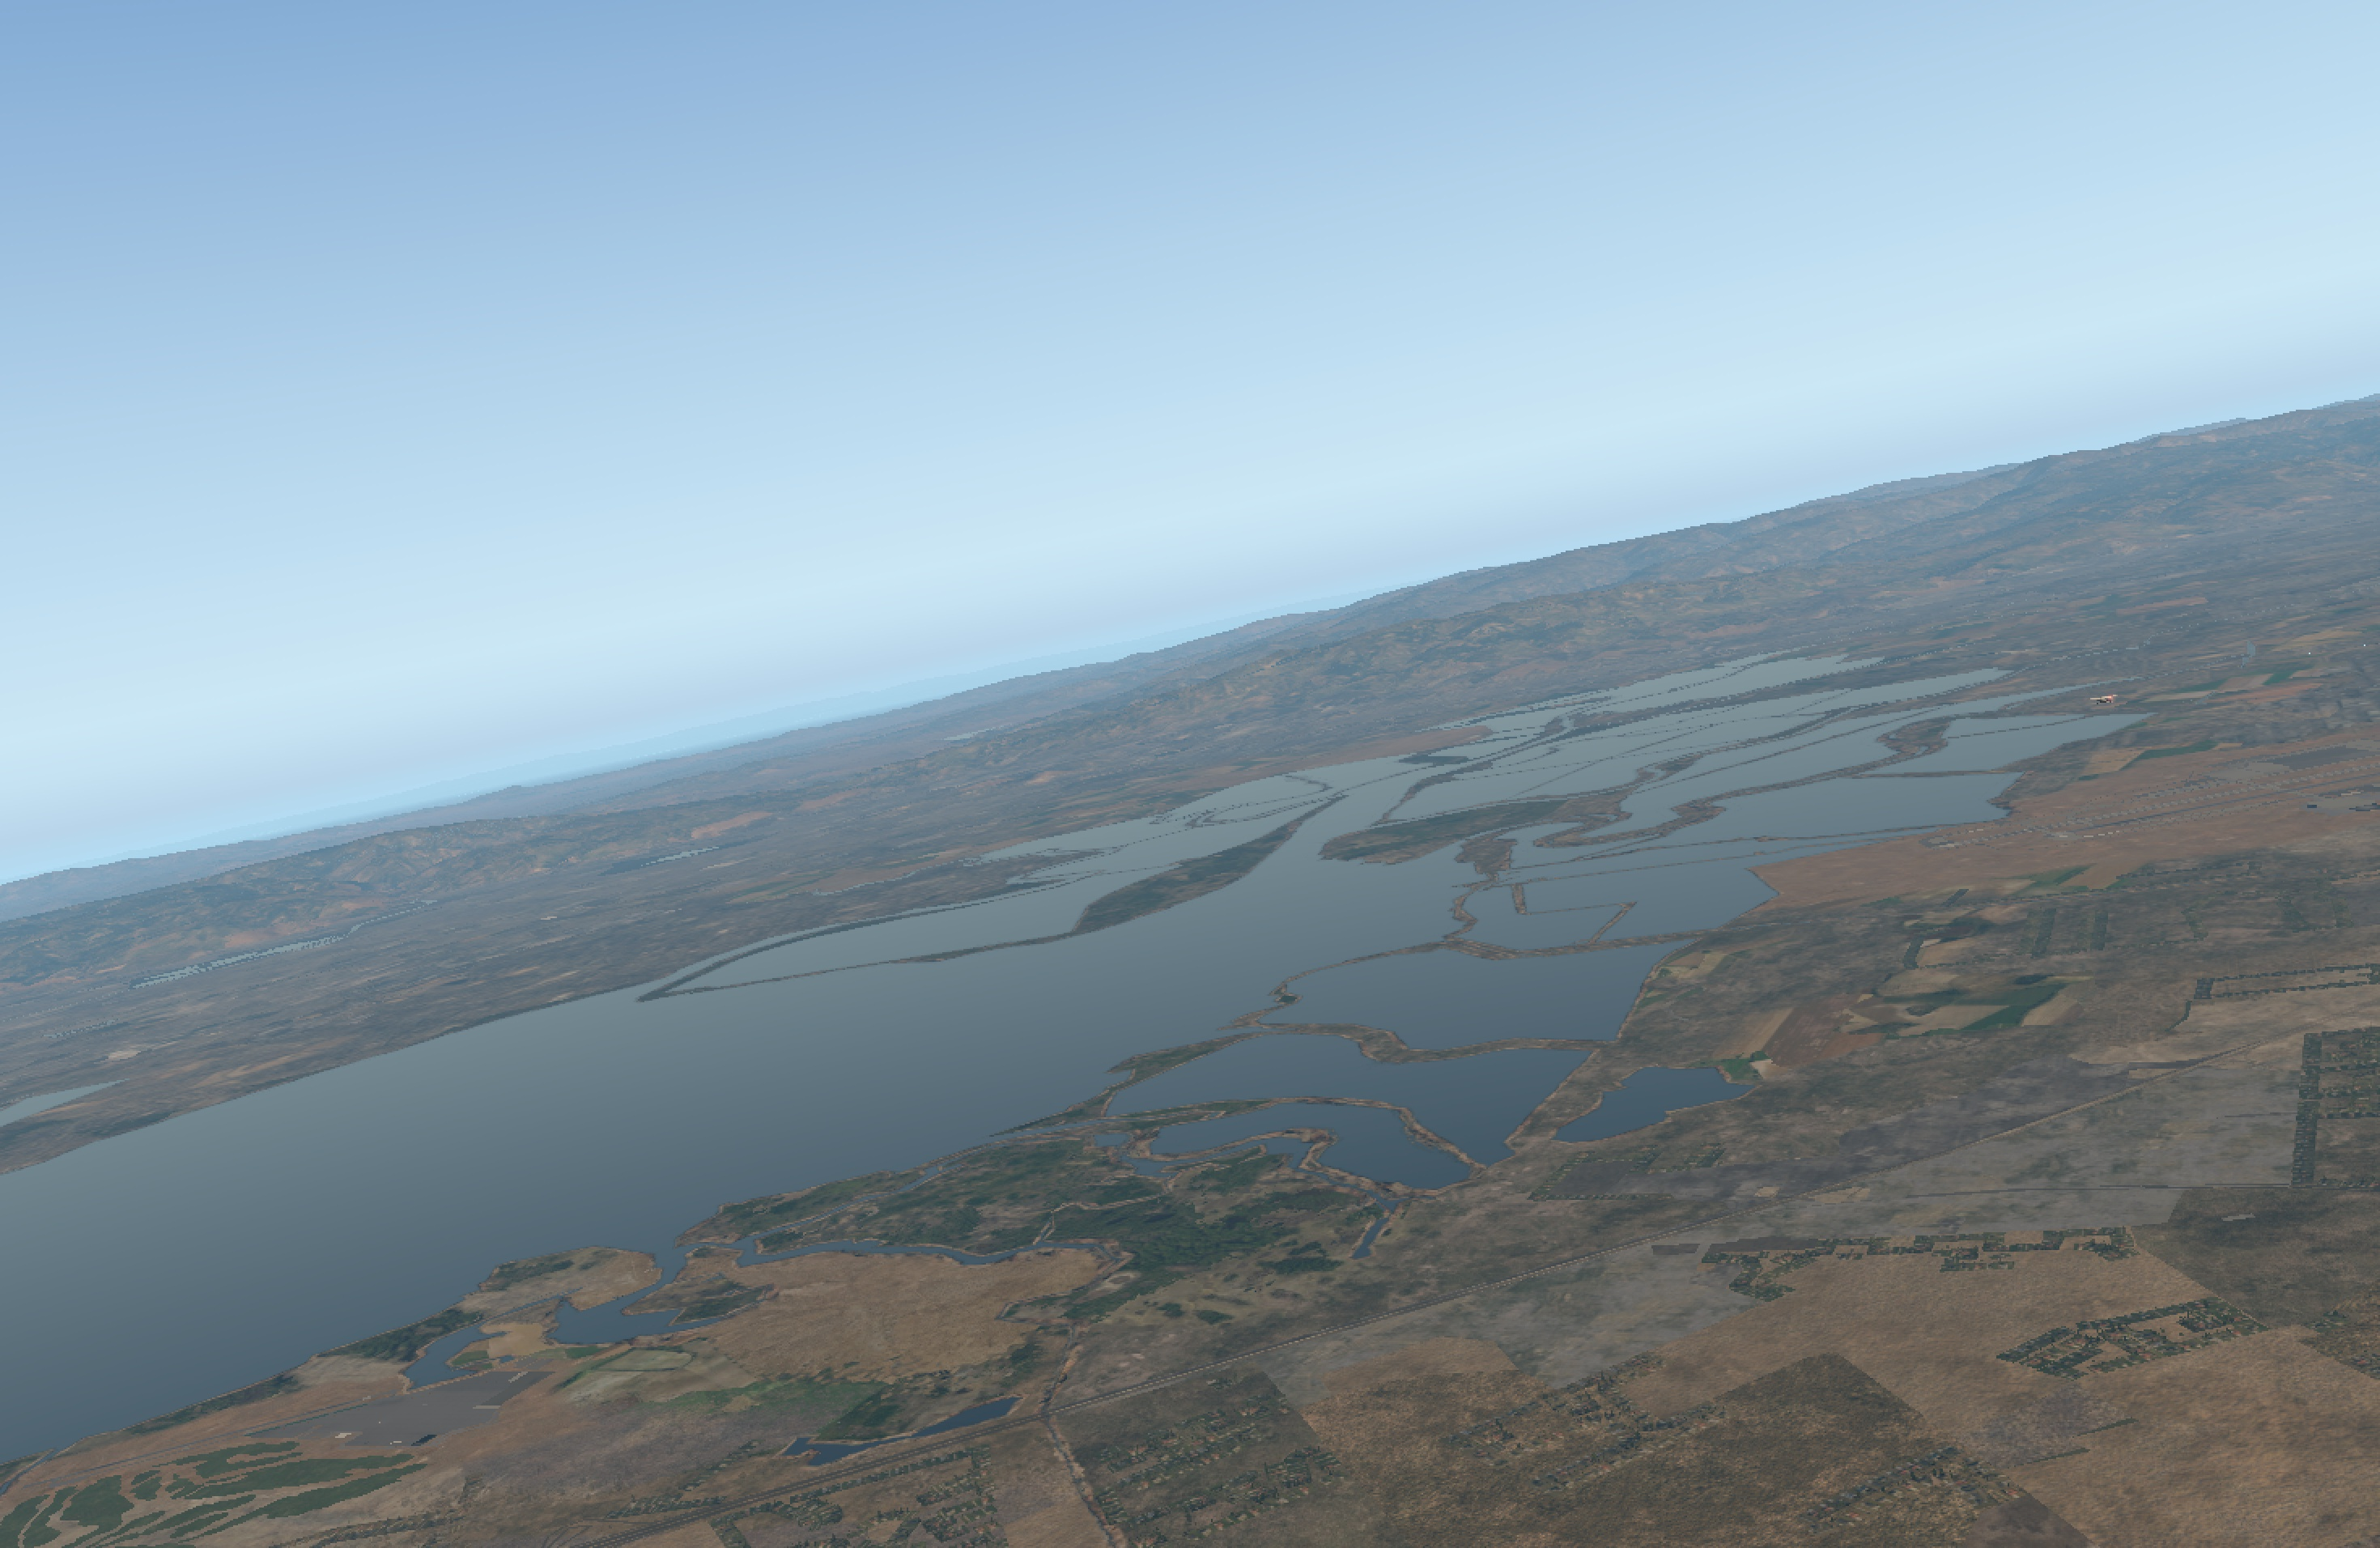aircraft: (2090, 696, 2111, 705)
